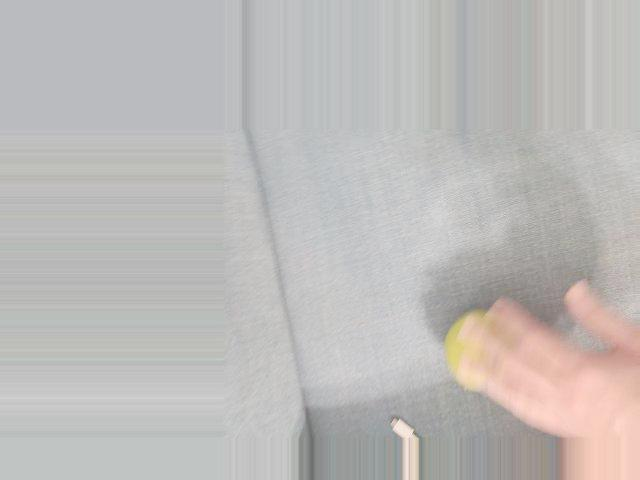apple: (425, 306, 547, 401)
